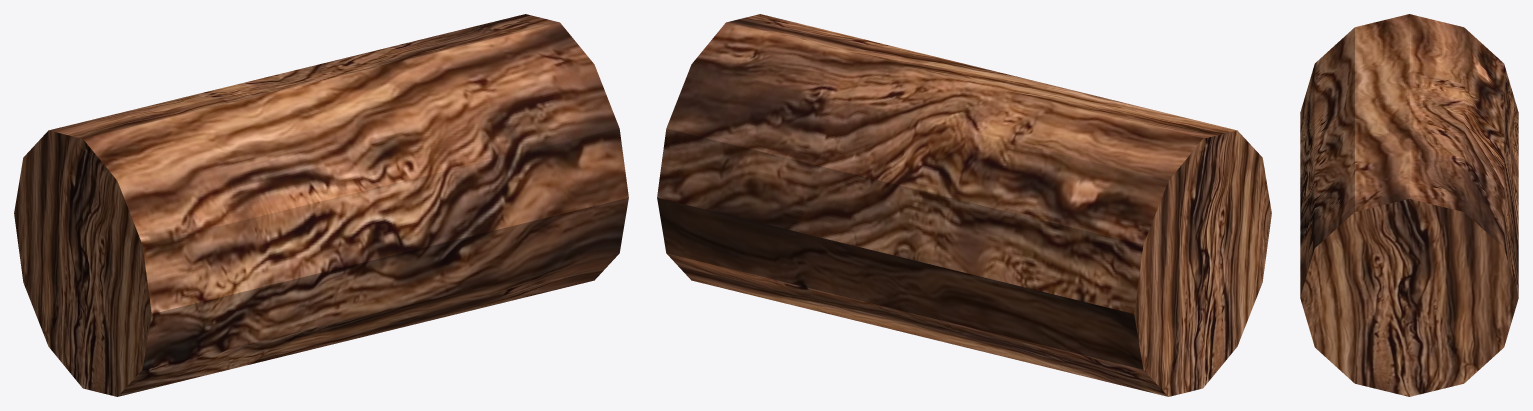
Rendered from woodLog2.glb.
3 views of the same model, side by side, from view 1: azimuth 30°, elevation 25°; view 2: azimuth 150°, elevation 25°; view 3: azimuth 270°, elevation 25° (orthographic). The views are drawn at different scales.
Visible parts, largest first — view 1: woodLog; view 2: woodLog; view 3: woodLog.
Boxes of the visible parts, left/top/right/bottom form: woodLog: left=14, top=14, right=628, bottom=396; woodLog: left=657, top=14, right=1271, bottom=396; woodLog: left=1300, top=14, right=1518, bottom=396.
Size of the model in its own units: 1.92 by 0.9599 by 0.9599.
1 material, 1 textured.
